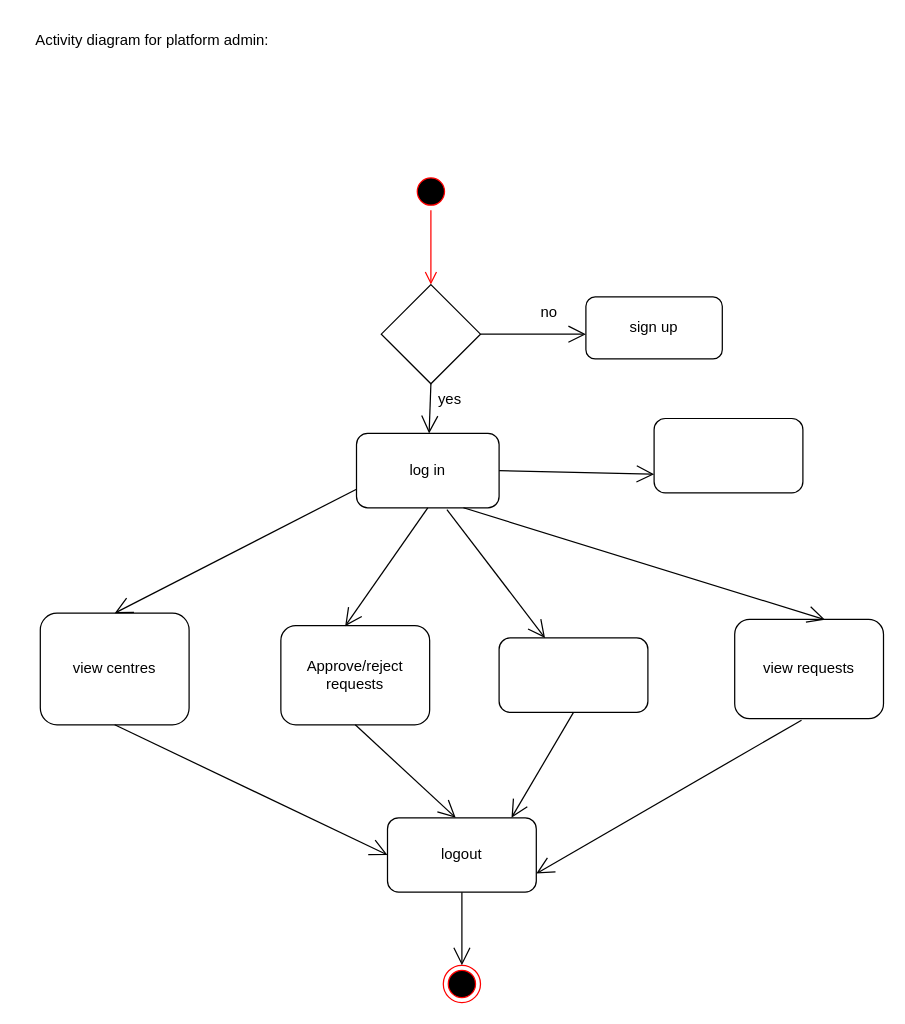
Image size: 905x1024. Some labels were removed from this diagram. Here are the shapes that lost their labels. From the top down, the centre of each, then its label:
(430,333): Existing admin?
(728,455): Edit details
(573,674): view customers
